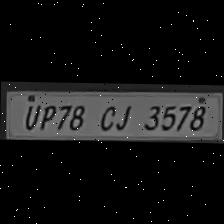3: (140, 100, 160, 130)
5: (160, 102, 178, 130)
7: (52, 102, 68, 131), (172, 102, 188, 130)
8: (64, 102, 86, 131), (187, 102, 205, 130)
C: (98, 99, 116, 131)
J: (114, 100, 134, 130)
P: (36, 102, 56, 131)
U: (21, 101, 39, 130)
